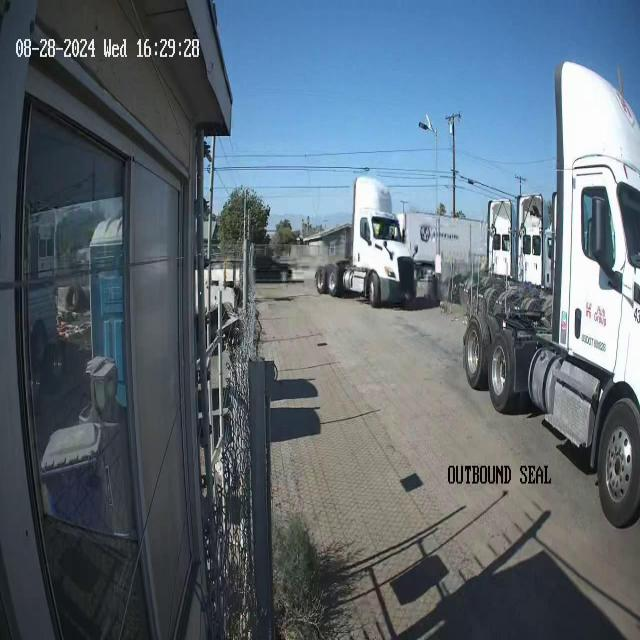TRUCK_IN: (462, 59, 639, 529)
